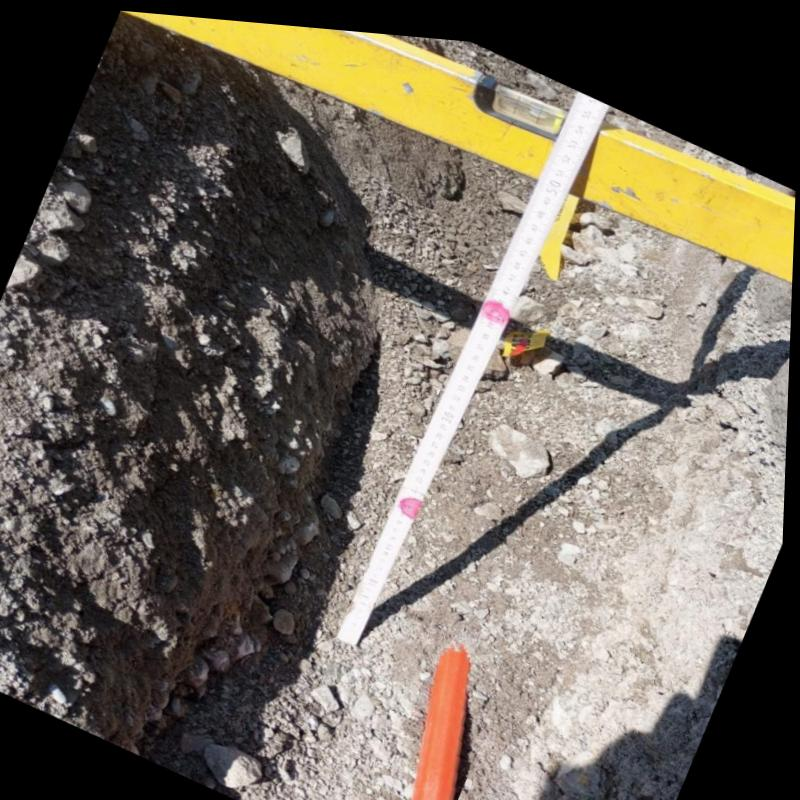Orang-Speednetrohrchen: (415, 640, 476, 800)
